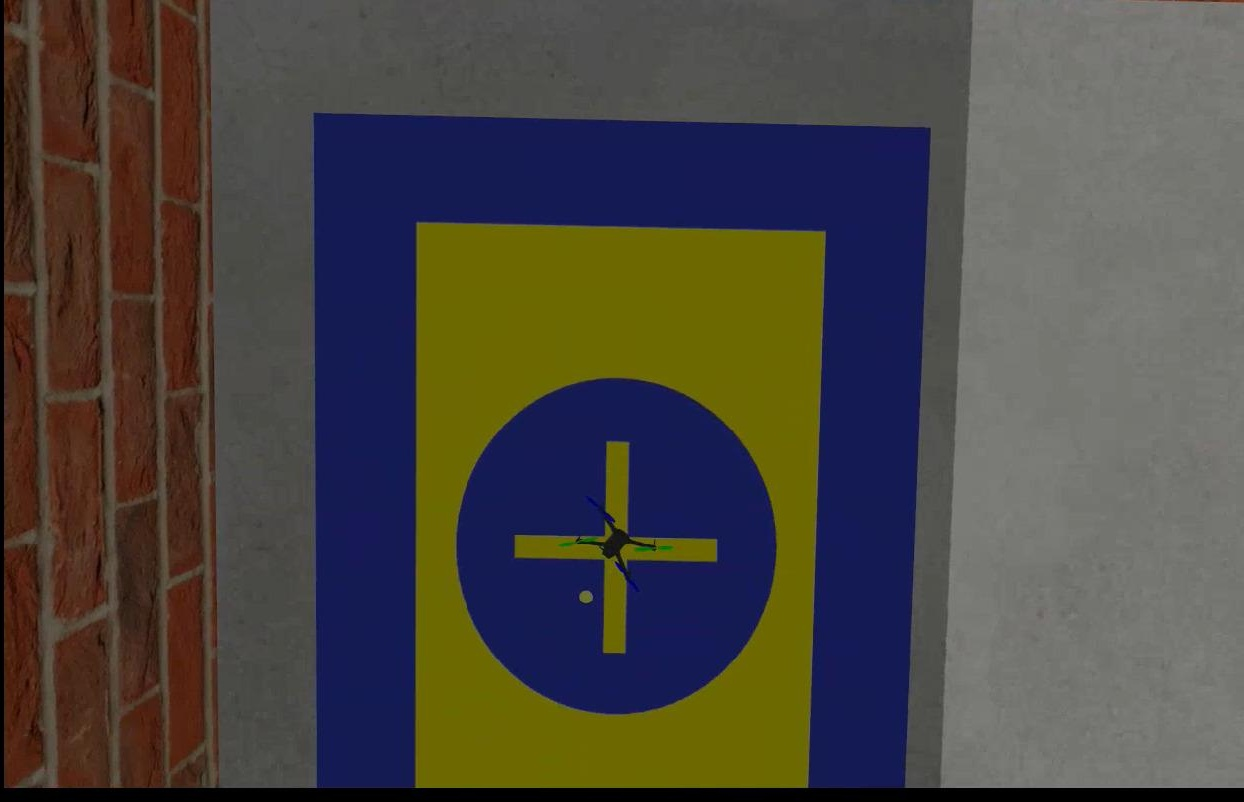large_base: (316, 108, 932, 793)
